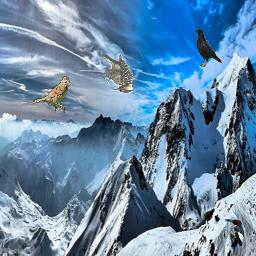Crow: (195, 28, 222, 68)
Sparrow: (31, 76, 71, 113)
Woodpecker: (102, 53, 133, 93), (225, 219, 244, 255)
